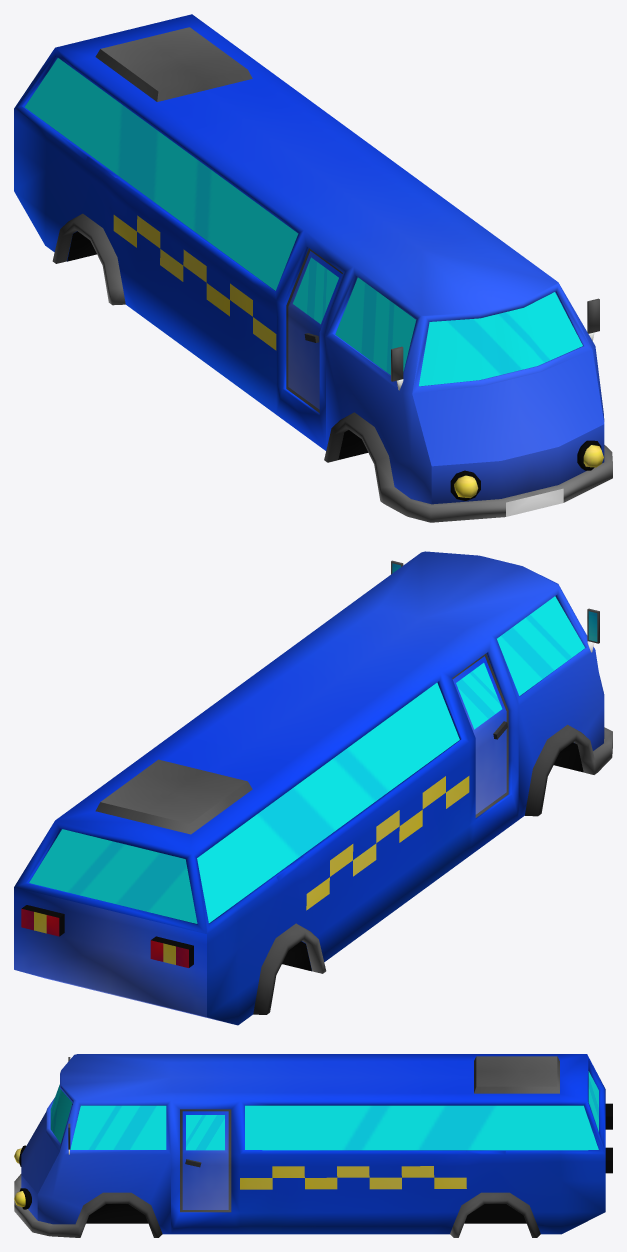
Rendered from Bus_2.fbx.
The picture shows the model from 3 angles, top to bottom: view 1: azimuth 30°, elevation 25°; view 2: azimuth 150°, elevation 25°; view 3: azimuth 270°, elevation 25°; orthographic projection. The views are drawn at different scales.
Visible parts, largest first — view 1: Bus_2; view 2: Bus_2; view 3: Bus_2.
Boxes of the visible parts, <box> form: Bus_2: <box>14,14,612,522</box>; Bus_2: <box>14,551,612,1025</box>; Bus_2: <box>14,1054,612,1237</box>.
Size of the model in its own units: 283 by 236 by 987.
2 materials, 2 textured.
